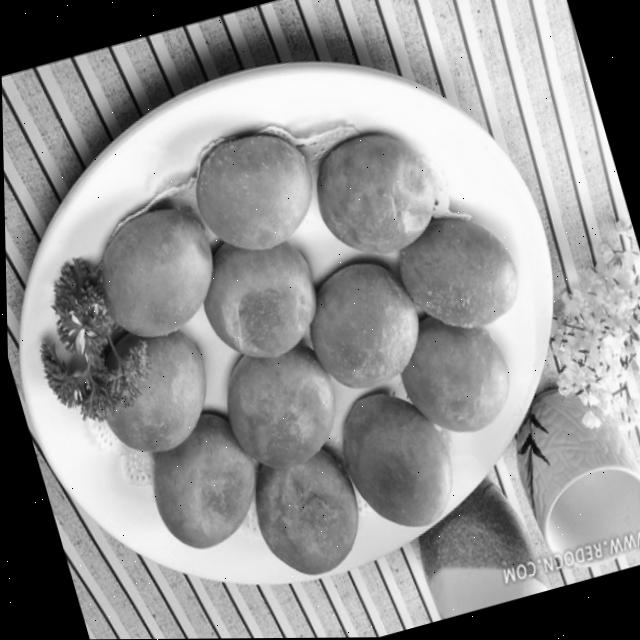炸货点心: (0, 12, 613, 640)
蛋糕甜品: (0, 12, 613, 640)
